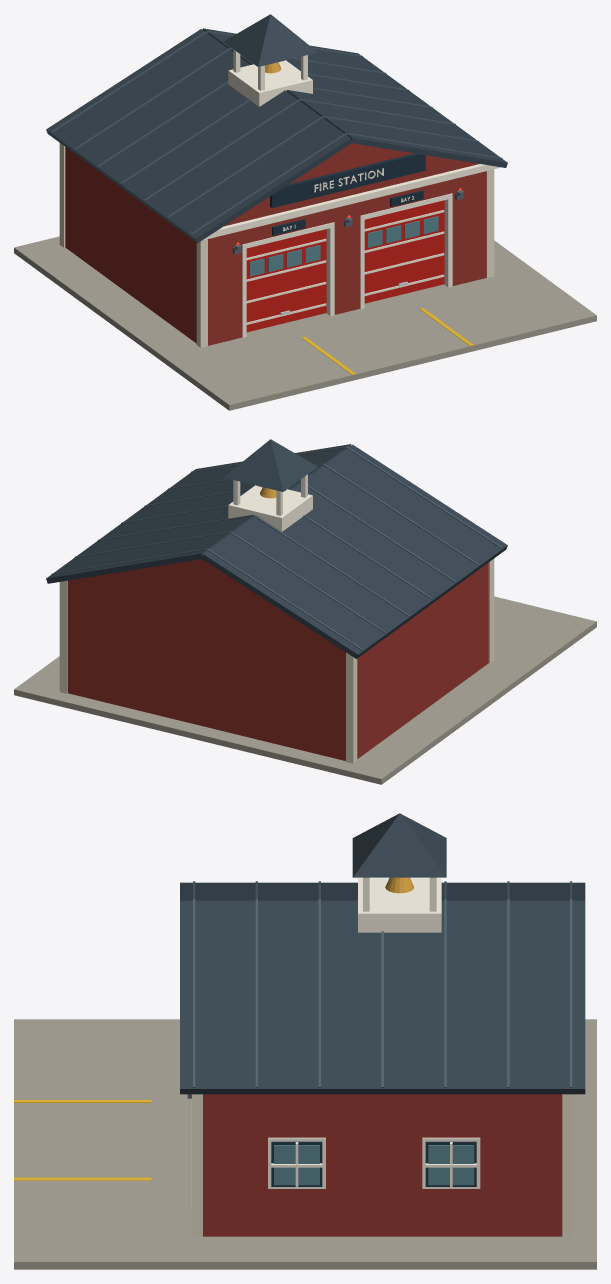
File: fire_station.glb
3 views of the same model, one above another, from view 1: azimuth 30°, elevation 25°; view 2: azimuth 150°, elevation 25°; view 3: azimuth 270°, elevation 25° (orthographic). The views are drawn at different scales.
Visible parts, largest first — view 1: ApronSlab, RoofPlane, WallLeft, RoofPlane.001, BayDoorLeftPanel, BayDoorRightPanel, GableInfill, FrontHeaderWall, FrontPierLeft, FrontPierRight, SignBoard, CupolaSpire (+10 smaller); view 2: WallRear, RoofPlane, ApronSlab, WallLeft, RoofPlane.001, GableInfill, CupolaSpire, CupolaBase, CornerQuoin.001, CornerQuoin.003, CornerQuoin; view 3: RoofPlane.001, ApronSlab, WallRight, RoofPlane, CupolaSpire, CupolaBase, CornerQuoin.003, WinGlass.001, WinGlass, CornerQuoin.002, WinCasing.001, WinCasing (+1 smaller).
Part boxes in pixels (x1,y1,x2,y2): ApronSlab: (14,236,596,410); RoofPlane: (46,29,351,243); WallLeft: (65,147,196,343); RoofPlane.001: (202,28,507,167); BayDoorLeftPanel: (246,229,326,332); BayDoorRightPanel: (364,200,444,303); GableInfill: (224,143,478,226); FrontHeaderWall: (208,171,486,253); FrontPierLeft: (208,246,242,345); FrontPierRight: (452,186,486,285); SignBoard: (270,153,425,207); CupolaSpire: (223,14,317,66); WallRear: (67,580,345,760); RoofPlane: (201,444,507,658); ApronSlab: (14,596,596,784); WallLeft: (344,563,488,760); RoofPlane.001: (46,444,351,583); GableInfill: (71,559,333,644); CupolaSpire: (223,439,317,491); CupolaBase: (228,485,312,531); CornerQuoin.001: (346,652,357,763); CornerQuoin.003: (59,580,67,693); CornerQuoin: (488,558,494,663); RoofPlane.001: (180,901,585,1094); ApronSlab: (14,1019,596,1269); WallRight: (203,1094,562,1236); RoofPlane: (180,882,585,901); CupolaSpire: (352,813,446,877); CupolaBase: (358,878,441,932); CornerQuoin.003: (562,1094,573,1237); WinGlass.001: (428,1145,474,1185); WinGlass: (274,1145,319,1185); CornerQuoin.002: (192,1094,202,1237); WinCasing.001: (422,1137,480,1188); WinCasing: (268,1137,325,1188).
Bounding box in the file's own units: 13.4 × 8.63 × 13.6.
